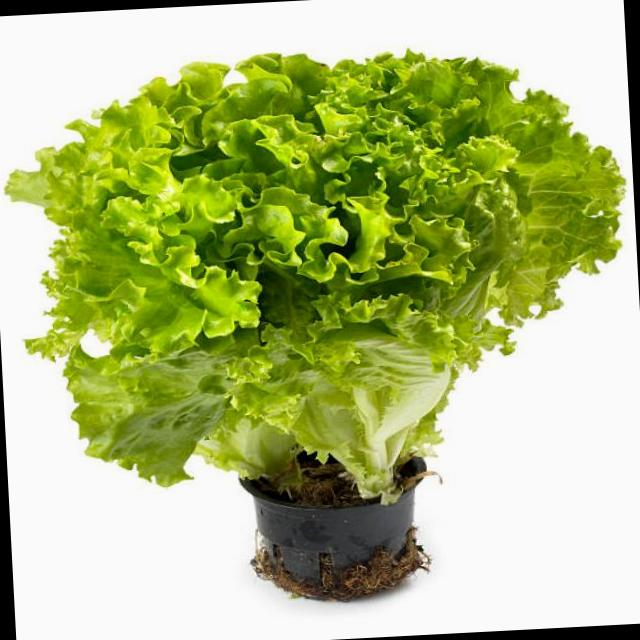Lettuce-Ready-to-Harvest: (8, 53, 623, 501)
